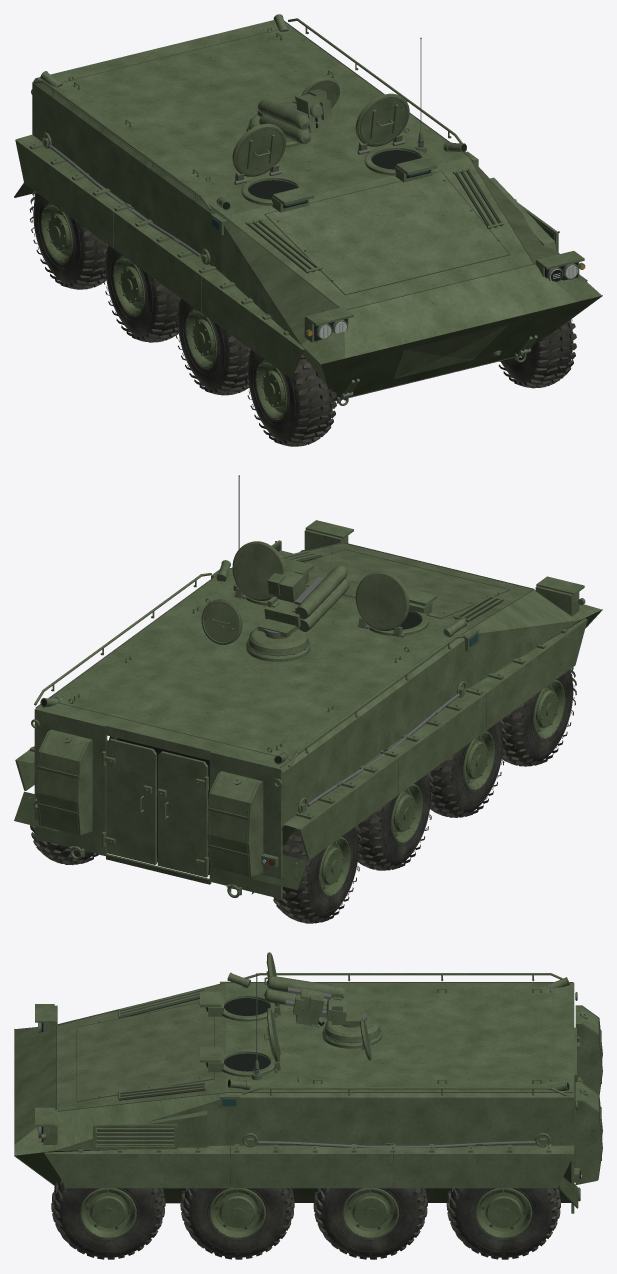
File: BMP_K_64_ATGM.glb
3 views of the same model, one above another, from view 1: azimuth 30°, elevation 25°; view 2: azimuth 150°, elevation 25°; view 3: azimuth 270°, elevation 25° (orthographic). The views are drawn at different scales.
Visible parts, largest first — view 1: Hull, Engine_Deck, Skirt_Left, Hull_Fittings, Wheel_Left_1, Wheel_Left_3, Wheel_Left_4, Wheel_Left_2, Wheel_Right_1, Gun_Elevation, Front_Lights, Hatch_Right (+1 smaller); view 2: Hull, Skirt_Left, Rear_Fittings, Hull_Fittings, Rear_Door_Right, Rear_Door_Left, Engine_Deck, Wheel_Left_4, Wheel_Left_3, Wheel_Left_2, Wheel_Left_1, Gun_Elevation (+7 smaller); view 3: Hull, Skirt_Right, Engine_Deck, Hull_Fittings, Wheel_Right_1, Wheel_Right_3, Wheel_Right_2, Wheel_Right_4, Rear_Fittings, Gun_Elevation, Turret_Yaw, Front_Lights (+2 smaller).
Boxes of the visible parts, x1,y1,x2,y2 form: Hull: (32, 20, 601, 400); Engine_Deck: (245, 168, 559, 295); Skirt_Left: (14, 134, 304, 378); Hull_Fittings: (34, 18, 602, 405); Wheel_Left_1: (244, 347, 336, 446); Wheel_Left_3: (102, 243, 180, 342); Wheel_Left_4: (29, 191, 108, 289); Wheel_Left_2: (174, 274, 250, 395); Wheel_Right_1: (498, 319, 576, 388); Gun_Elevation: (258, 89, 332, 144); Front_Lights: (304, 251, 585, 342); Hatch_Right: (355, 93, 409, 150); Hull: (34, 543, 601, 898); Skirt_Left: (252, 618, 587, 890); Rear_Fittings: (31, 697, 288, 897); Hull_Fittings: (34, 542, 602, 813); Rear_Door_Right: (102, 738, 156, 864); Rear_Door_Left: (157, 751, 208, 877); Engine_Deck: (271, 540, 510, 622); Wheel_Left_4: (273, 824, 362, 923); Wheel_Left_3: (356, 771, 434, 870); Wheel_Left_2: (429, 718, 506, 817); Wheel_Left_1: (501, 667, 576, 766); Gun_Elevation: (264, 565, 348, 631); Hull: (14, 982, 574, 1213); Skirt_Right: (44, 1144, 578, 1208); Engine_Deck: (76, 987, 214, 1149); Hull_Fittings: (14, 972, 573, 1185); Wheel_Right_1: (51, 1177, 165, 1259); Wheel_Right_3: (313, 1159, 427, 1259); Wheel_Right_2: (180, 1156, 294, 1259); Wheel_Right_4: (446, 1188, 560, 1259); Rear_Fittings: (546, 977, 602, 1201); Gun_Elevation: (264, 976, 347, 1027); Turret_Yaw: (322, 1008, 381, 1048); Front_Lights: (35, 1004, 57, 1144).
Size of the model in its own units: 3.1 by 3.05 by 6.02.
Materials: 14 (5 with a texture image).
